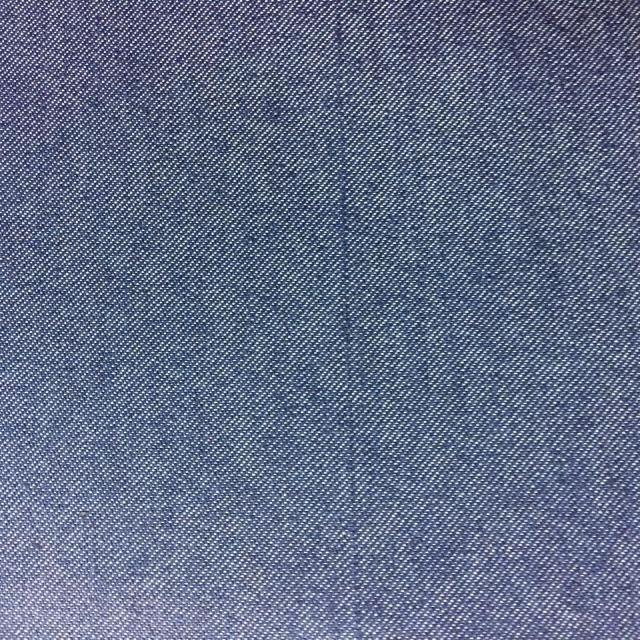Line: (330, 3, 372, 637)
